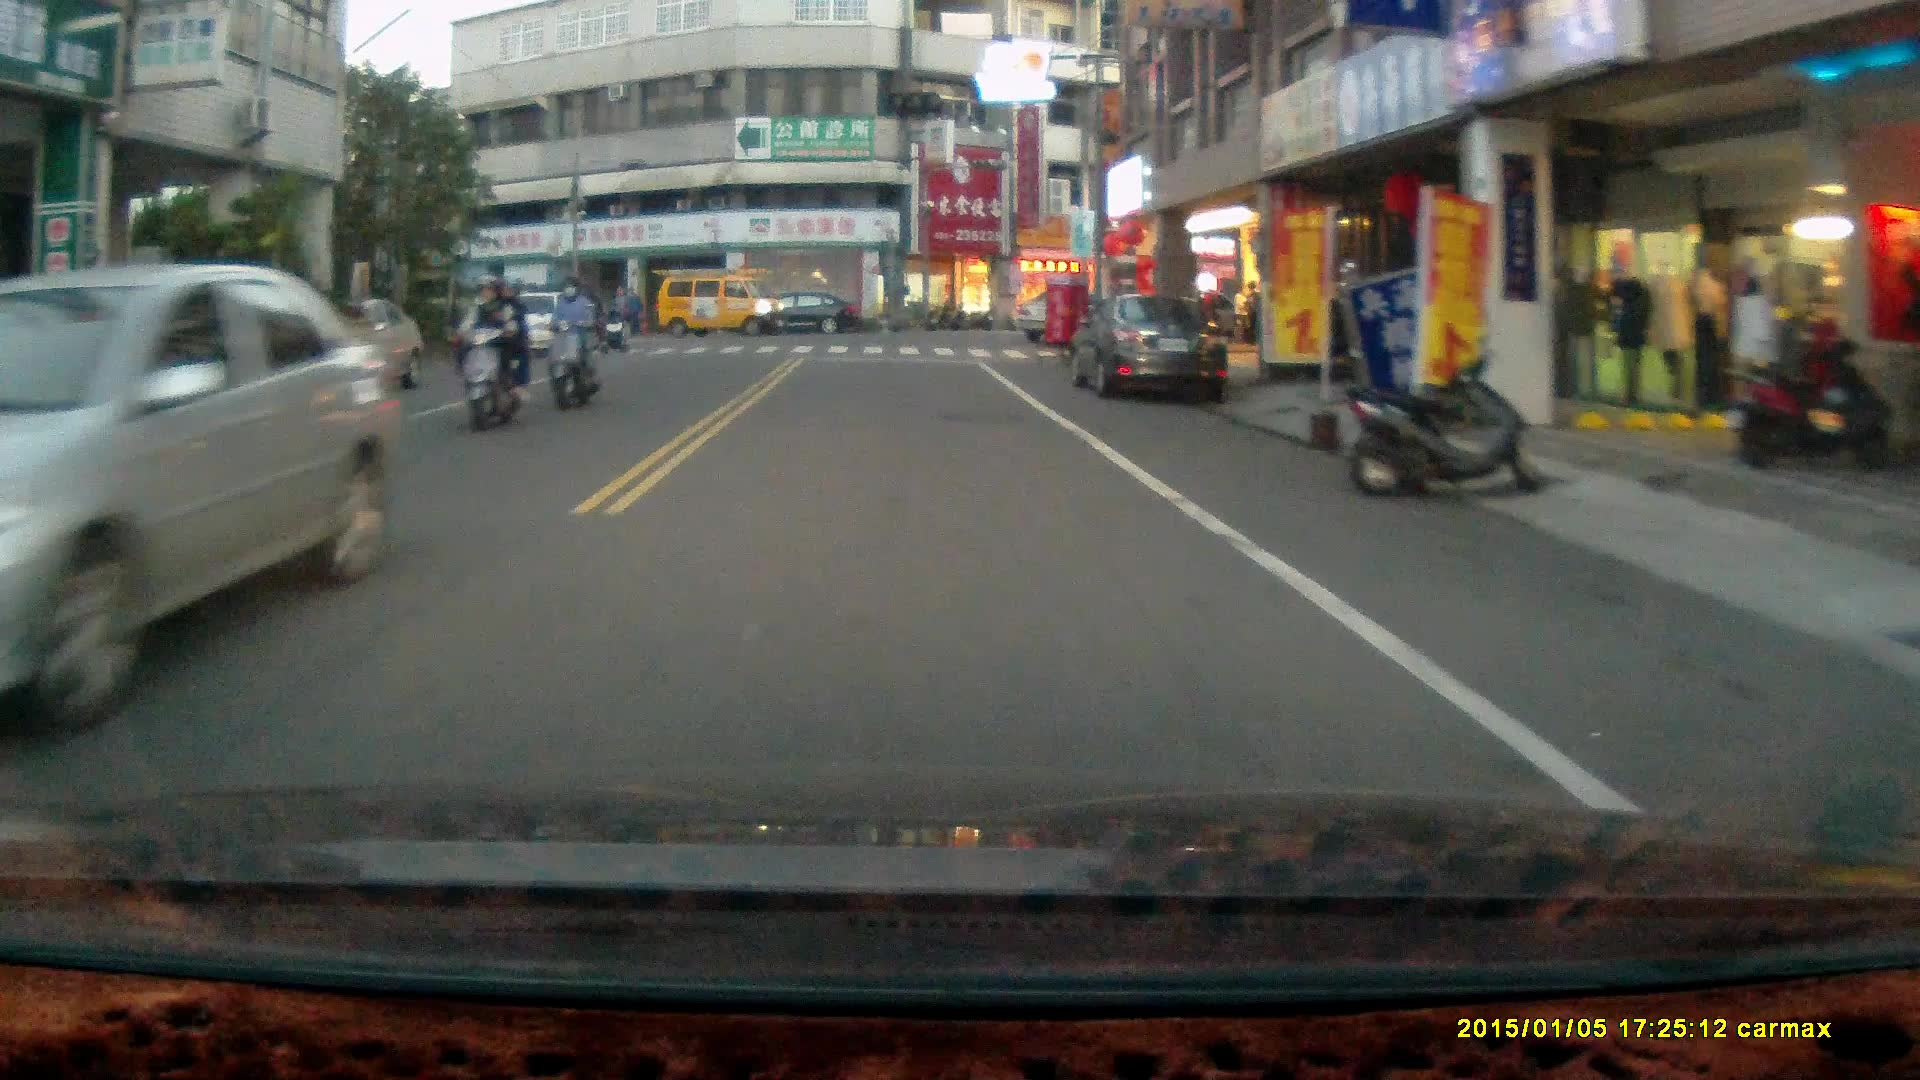pedestrian: (1242, 277, 1264, 347)
rider: (451, 271, 532, 434), (544, 273, 601, 413)
vehicle: (19, 266, 386, 734), (1063, 286, 1237, 413), (653, 268, 791, 339), (746, 291, 861, 338)
